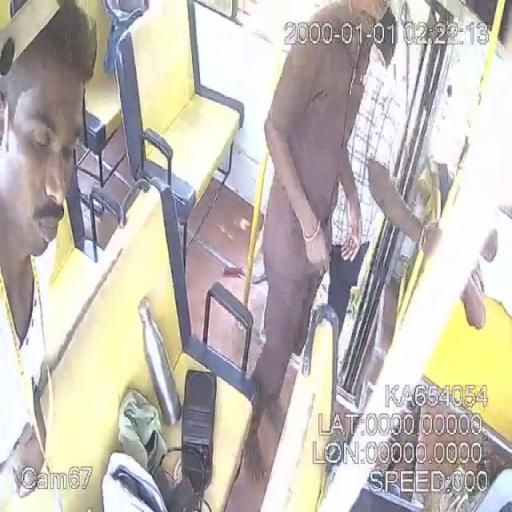persona: (241, 0, 396, 483), (0, 0, 100, 511)
